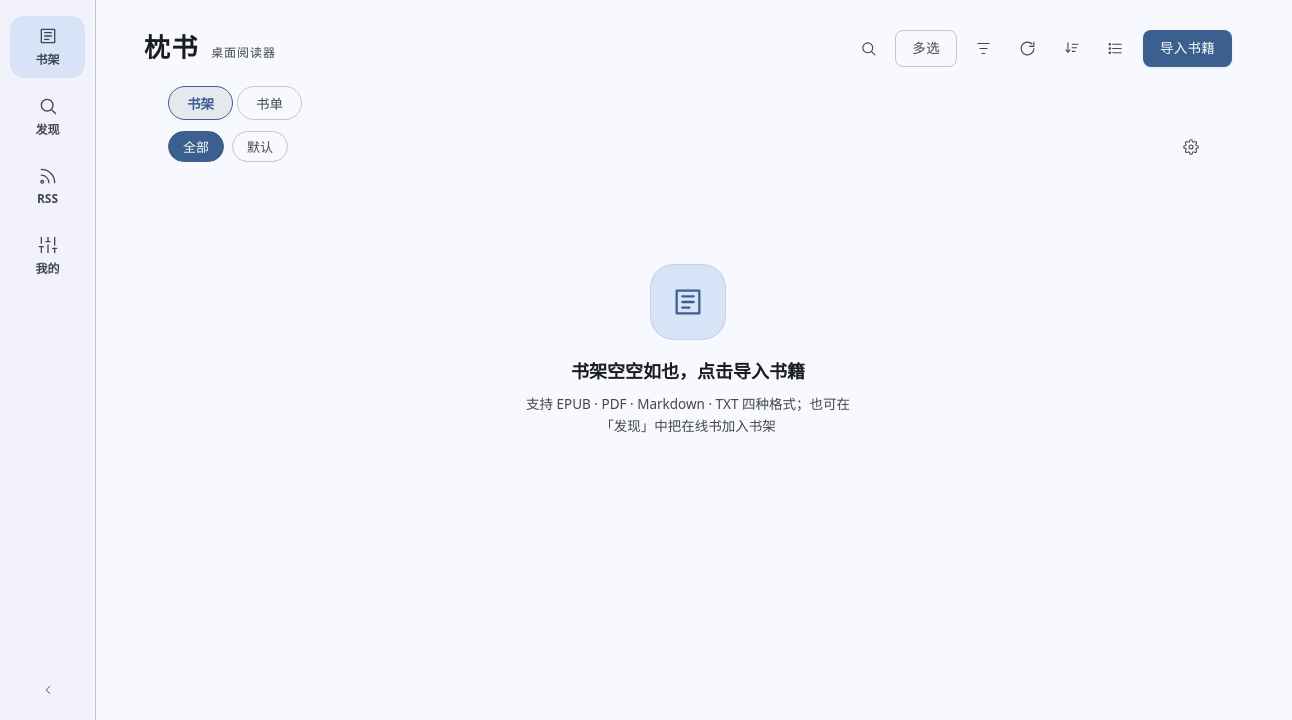
Test: App shell › starts at the bookshelf and switches areas via side nav
The image size is (1292, 720).
Expected: the heading "书架空空如也，点击导入书籍" is shown, [571, 358, 805, 386]
Click the button "书架" at coordinates (48, 47), box [10, 16, 85, 78]
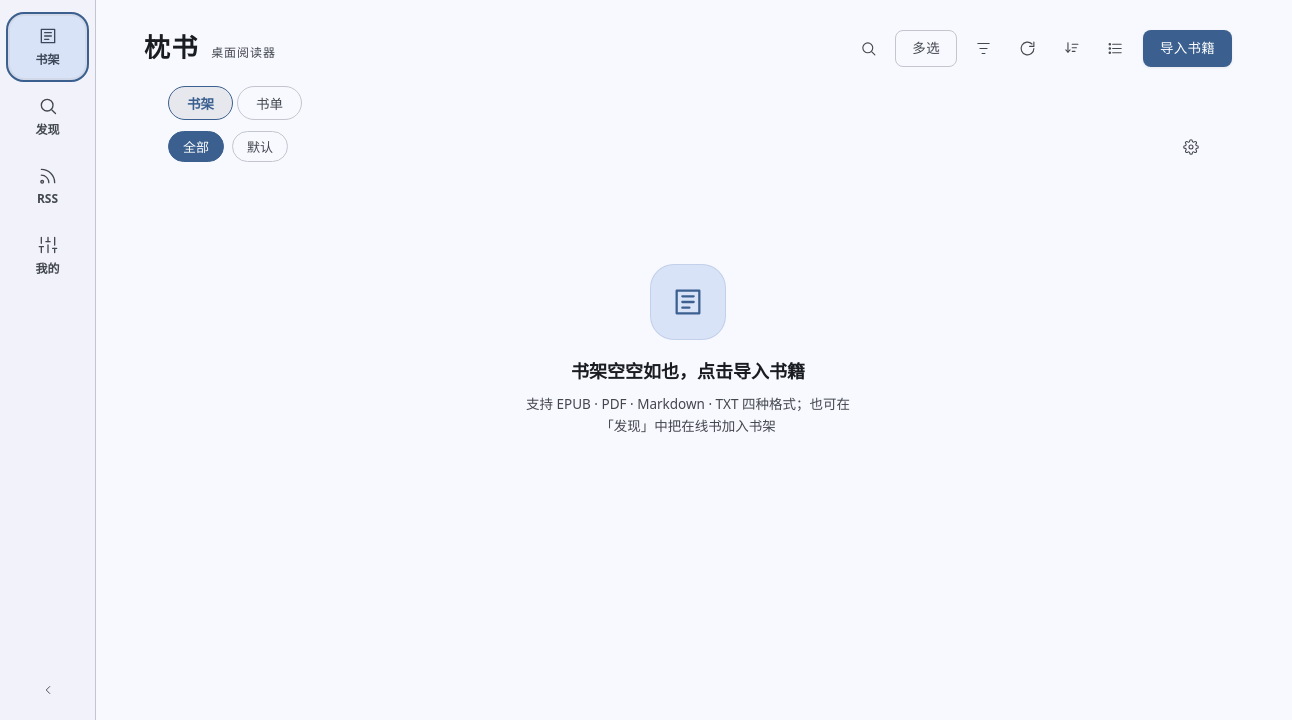
Expected: the heading "书架空空如也，点击导入书籍" is shown, [571, 358, 805, 386]
Click the button "我的" at coordinates (48, 256), box [10, 225, 85, 287]
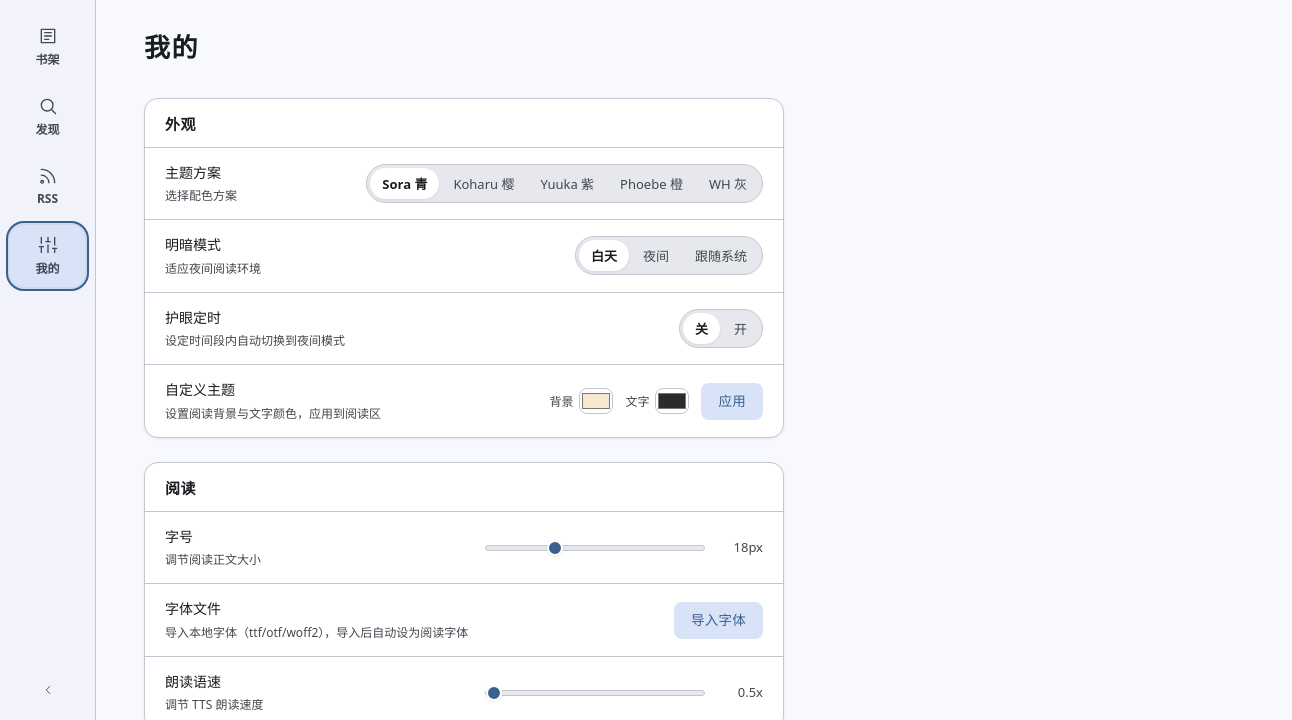
Expected: the heading "我的" is shown, [144, 28, 199, 70]
Click the button "RSS" at coordinates (48, 186), box [10, 156, 85, 217]
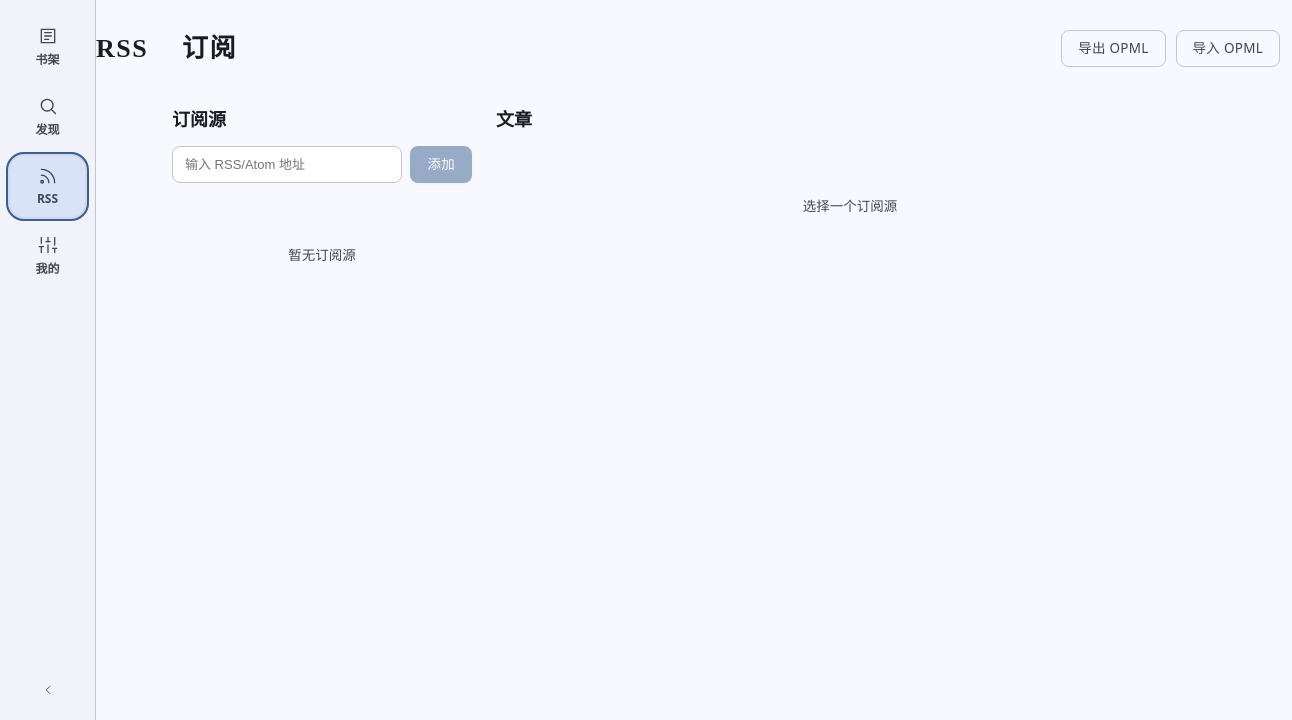
Expected: the heading "RSS 订阅" is shown, [96, 28, 237, 70]
